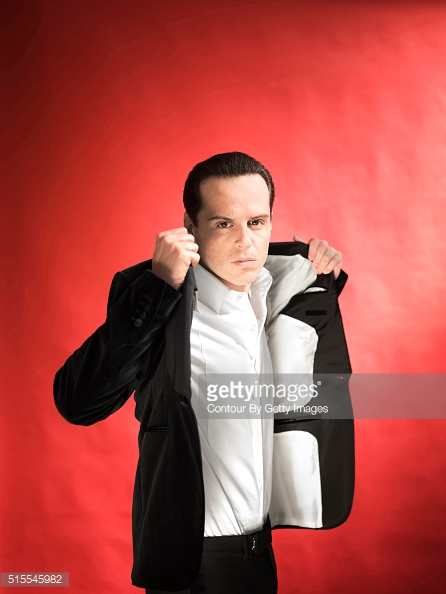em pe: (55, 163, 375, 593)
